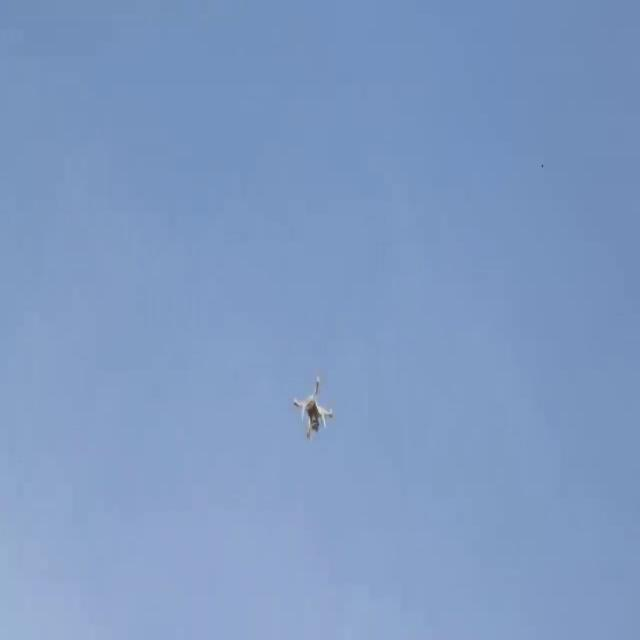drone: (287, 368, 340, 443)
